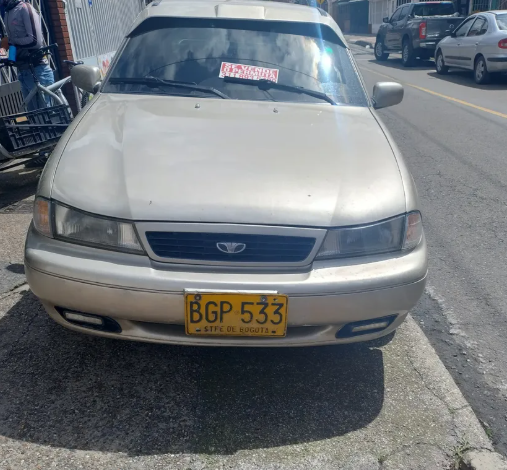placa: (182, 292, 292, 342)
